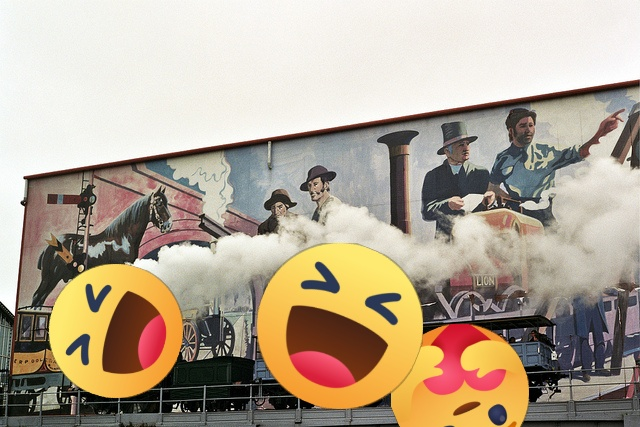care: (391, 324, 529, 427)
haha: (257, 243, 423, 409), (49, 264, 183, 398)
